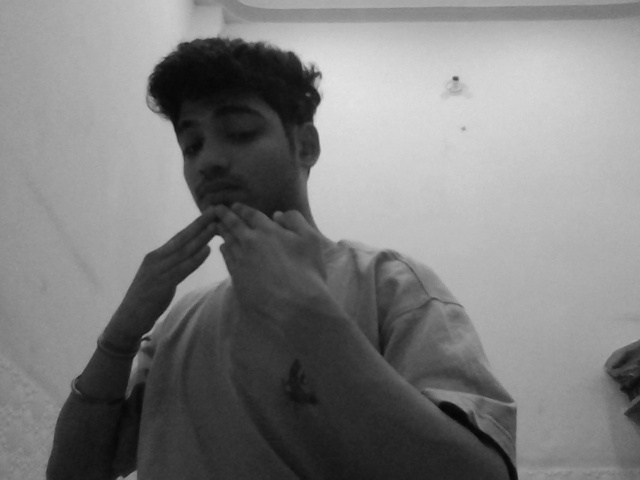Thanks: (103, 186, 376, 329)
